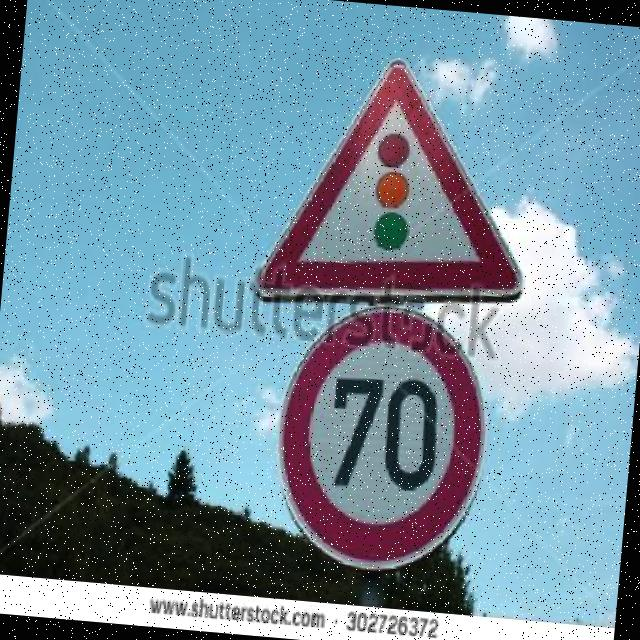Ograniczenie predkosci do 70: (274, 304, 488, 578)
